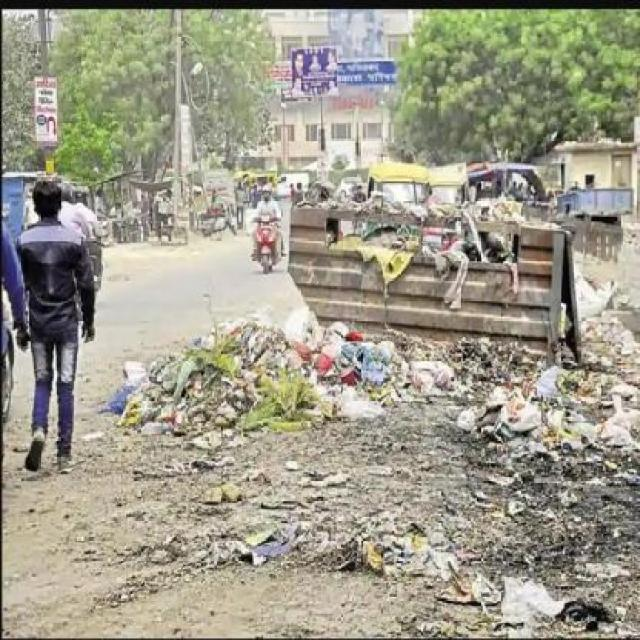garbage: (116, 307, 336, 436), (420, 337, 639, 464), (312, 214, 520, 278)
